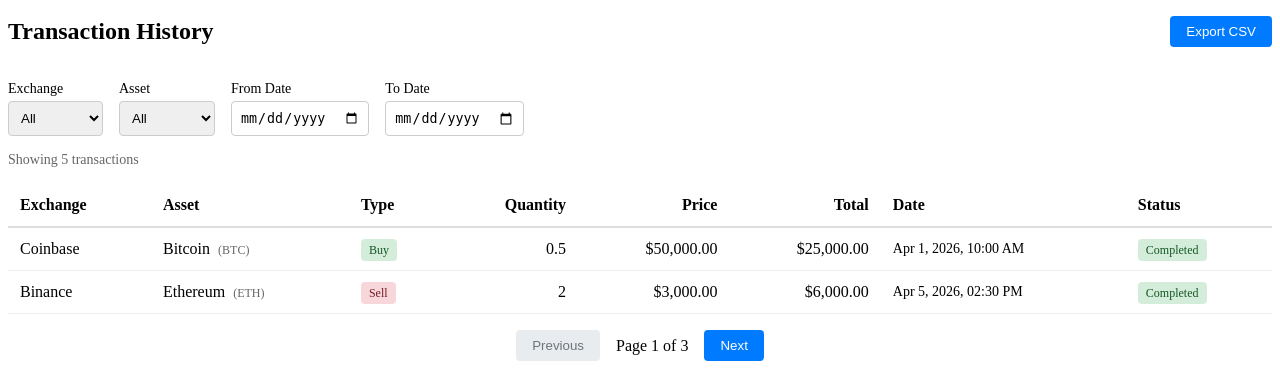
Scenario: TransactionHistory › Pagination › navigates to next page when clicking next
Click the button "Next" at (734, 346), box [704,330,764,361]
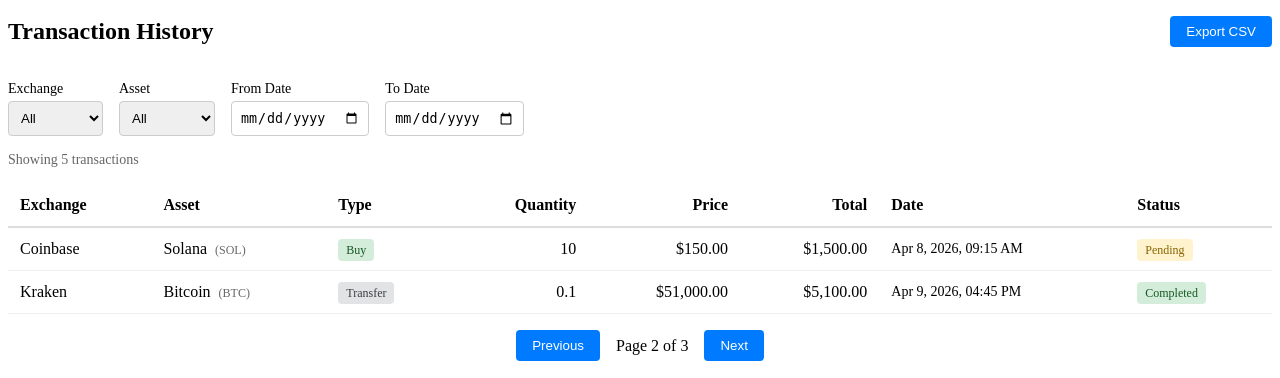
Check: the text with test id "page-indicator" reads "Page 2 of 3", box [616,337,688,355]
